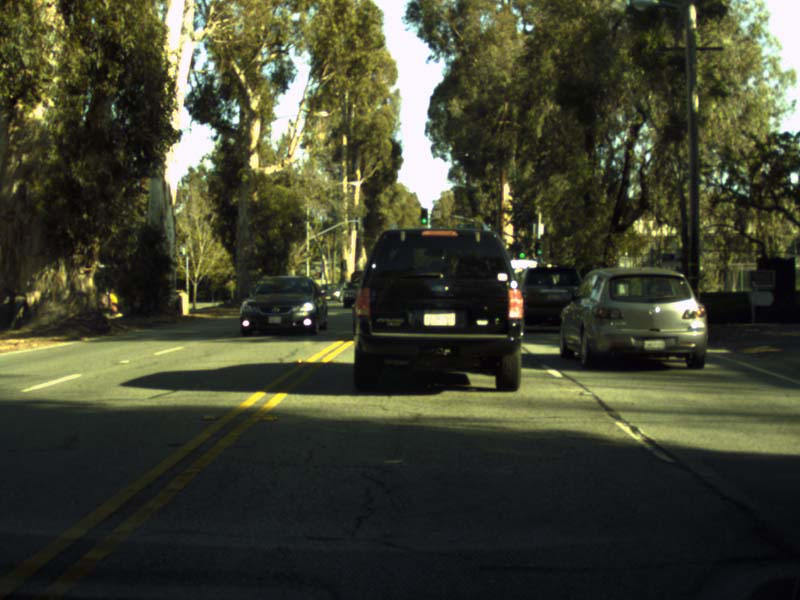Green: (421, 208, 428, 224), (517, 243, 524, 258), (536, 242, 541, 255)
